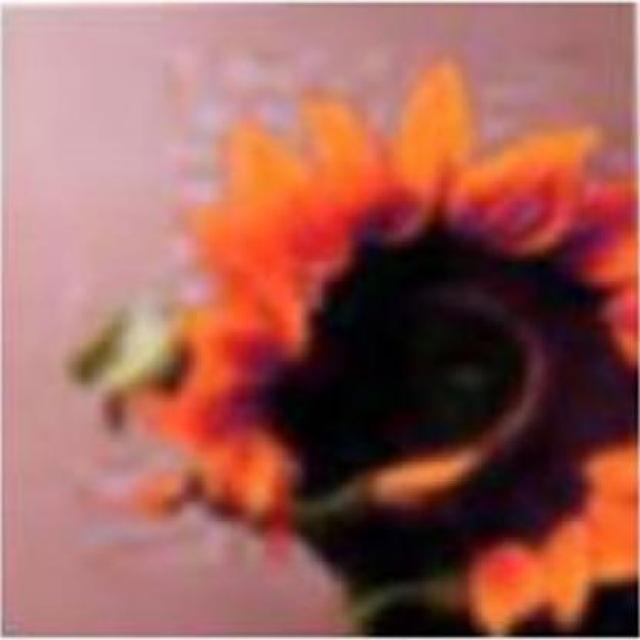sunflower: (163, 65, 640, 629)
